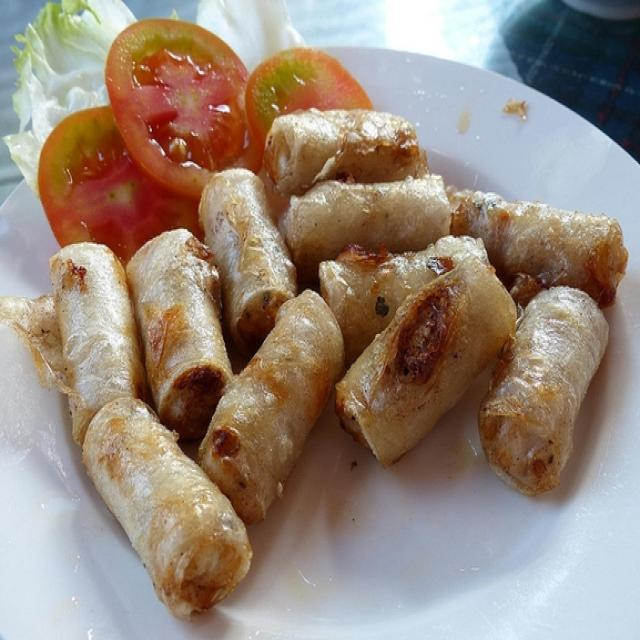炸货点心: (20, 44, 628, 626)
